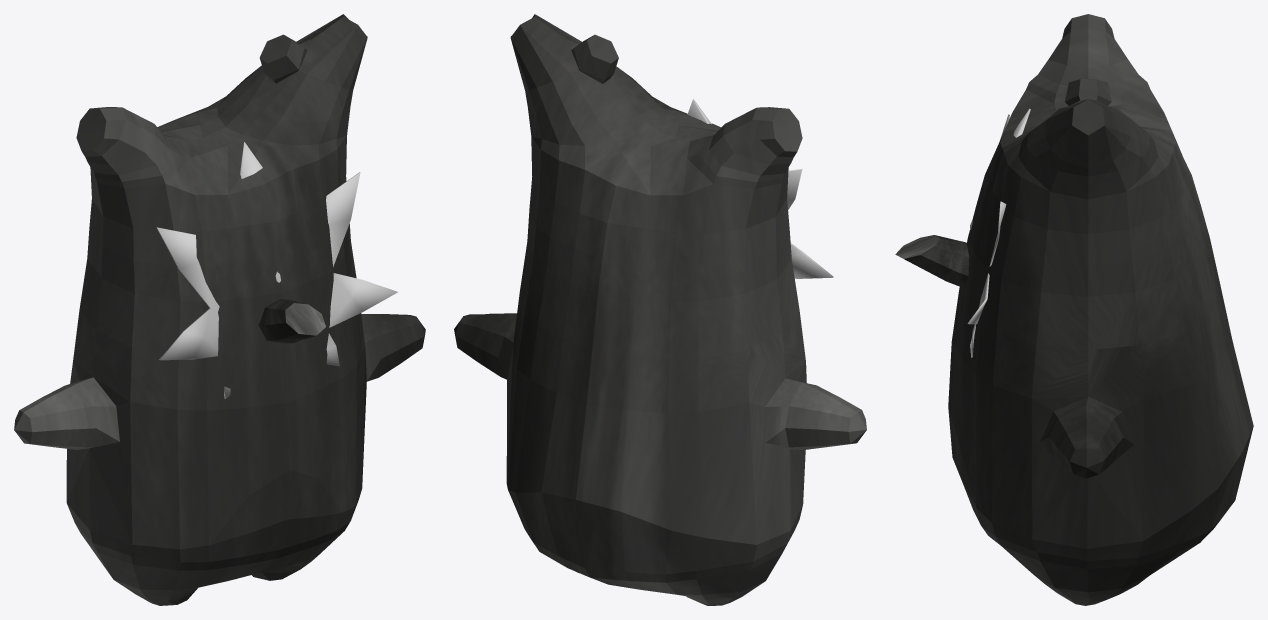
The model's file is frame_0020.obj.
3 views of the same model, side by side, from view 1: azimuth 30°, elevation 25°; view 2: azimuth 150°, elevation 25°; view 3: azimuth 270°, elevation 25° (orthographic).
Visible parts, largest first — view 1: korok, leaf, nose; view 2: korok, leaf; view 3: korok, nose, leaf.
Part boxes in pixels (bbox=[...]): korok: bbox=[14, 14, 425, 605]; leaf: bbox=[156, 142, 397, 398]; nose: bbox=[258, 298, 325, 343]; korok: bbox=[454, 14, 866, 605]; leaf: bbox=[687, 99, 833, 278]; korok: bbox=[948, 14, 1253, 605]; nose: bbox=[895, 235, 969, 288]; leaf: bbox=[967, 108, 1030, 357].
Bounding box in the file's own units: 1.82 × 2.29 × 1.38.
